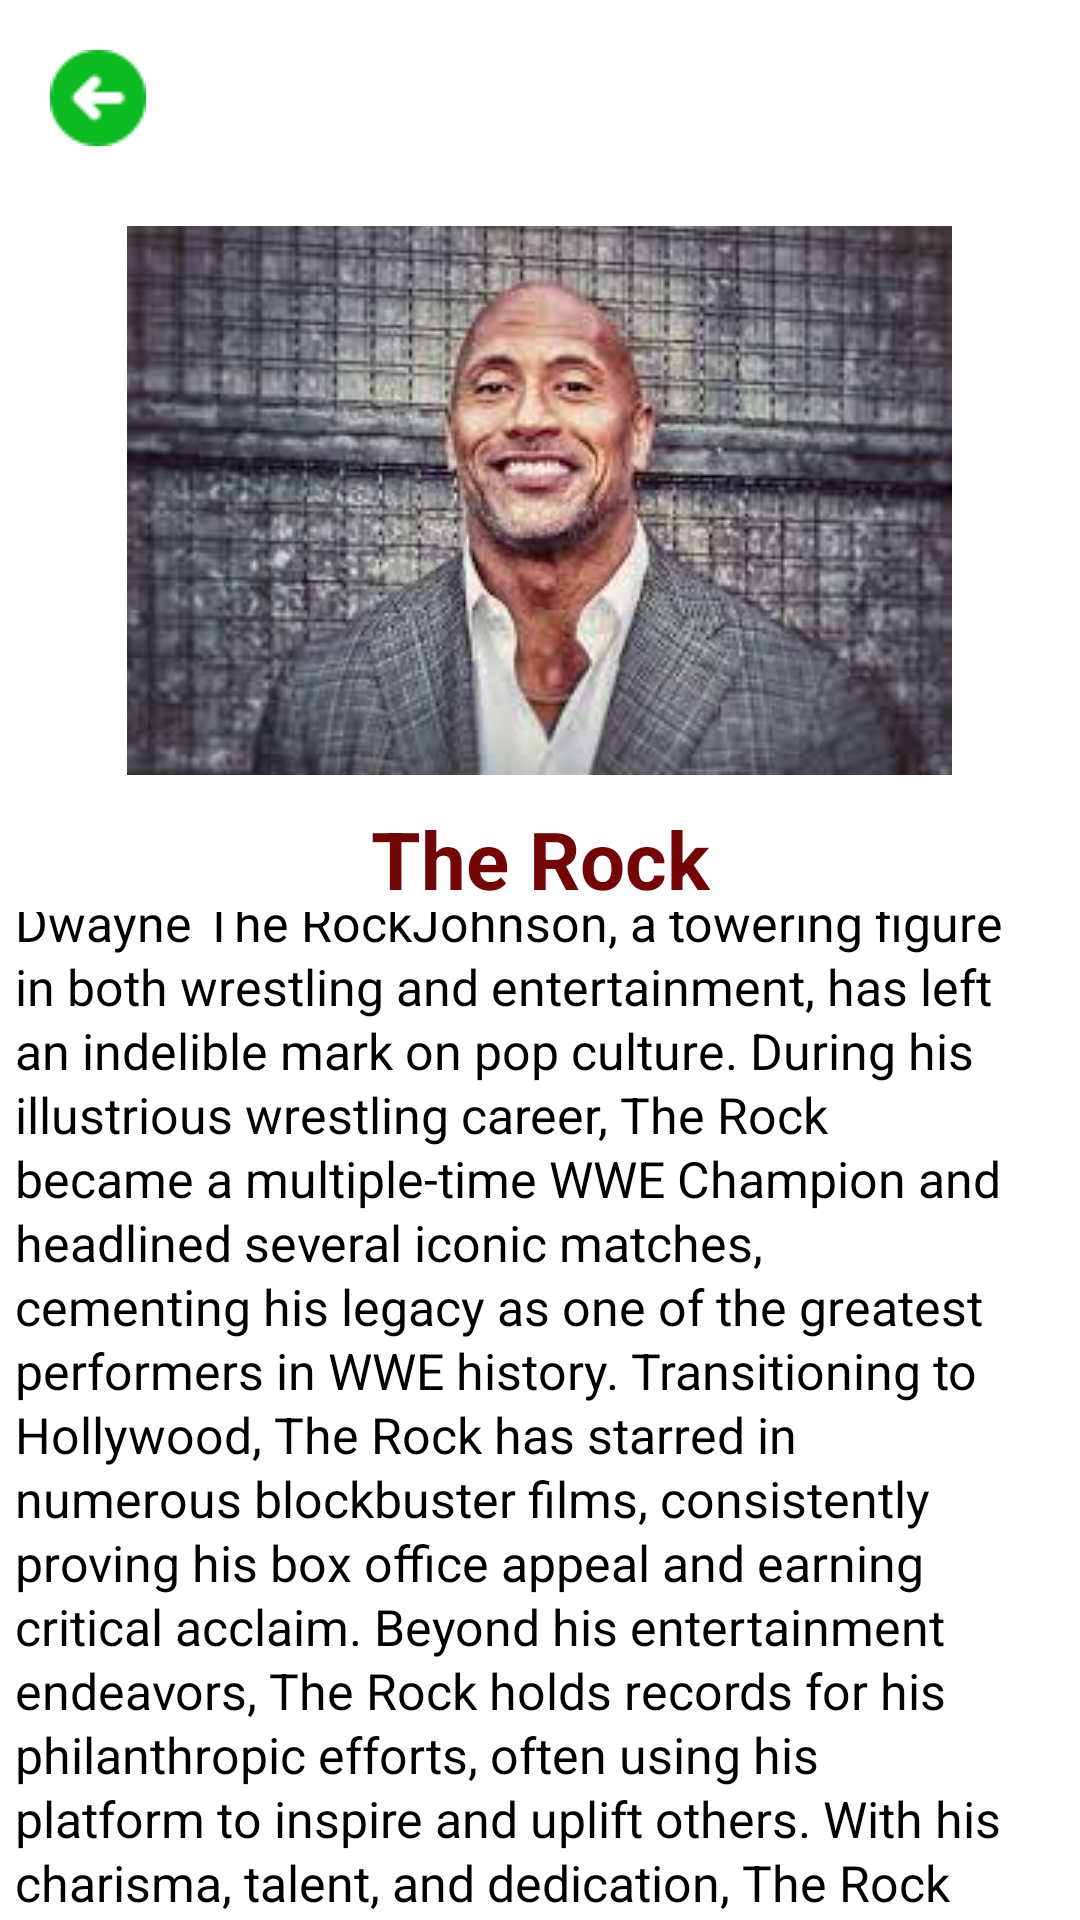

Named icons in this screenshot (1080x1920) and their bounding boxes, [left=x1, top=y1, right=x2, bottom=y2]:
previous: [left=50, top=50, right=146, bottom=146]
